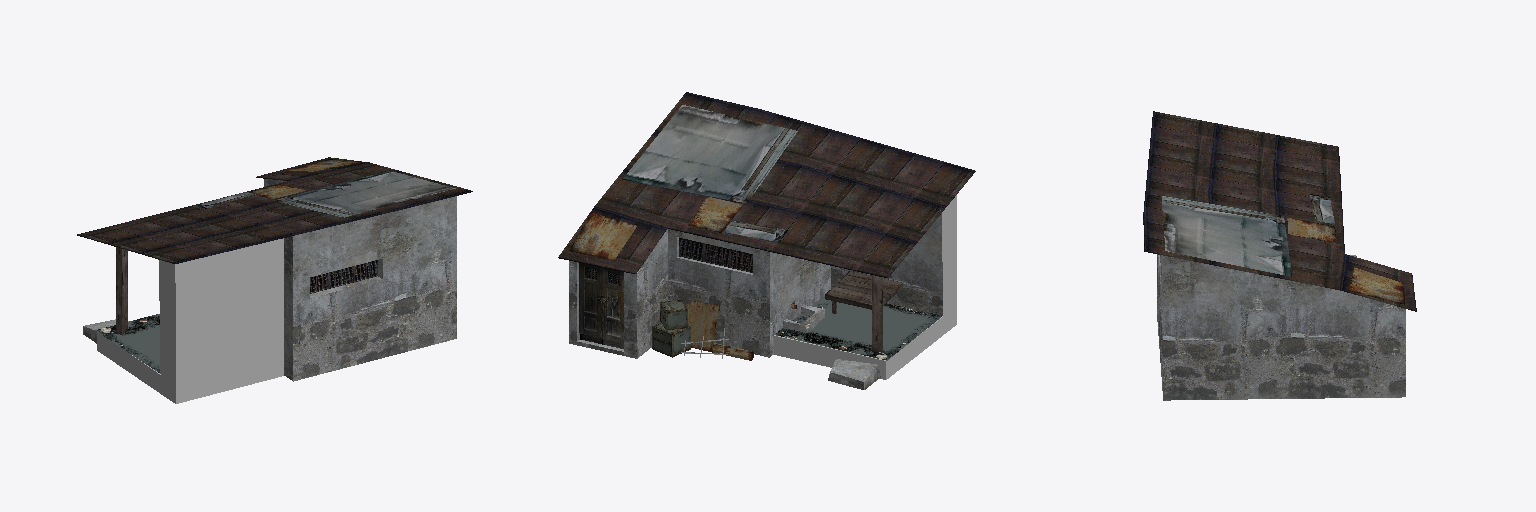
3 renders of one model, left to right at view 1: azimuth 30°, elevation 25°; view 2: azimuth 150°, elevation 25°; view 3: azimuth 270°, elevation 25°, orthographic.
Bounding box in the file's own units: 228 × 114 × 181.
11 materials, 10 textured.